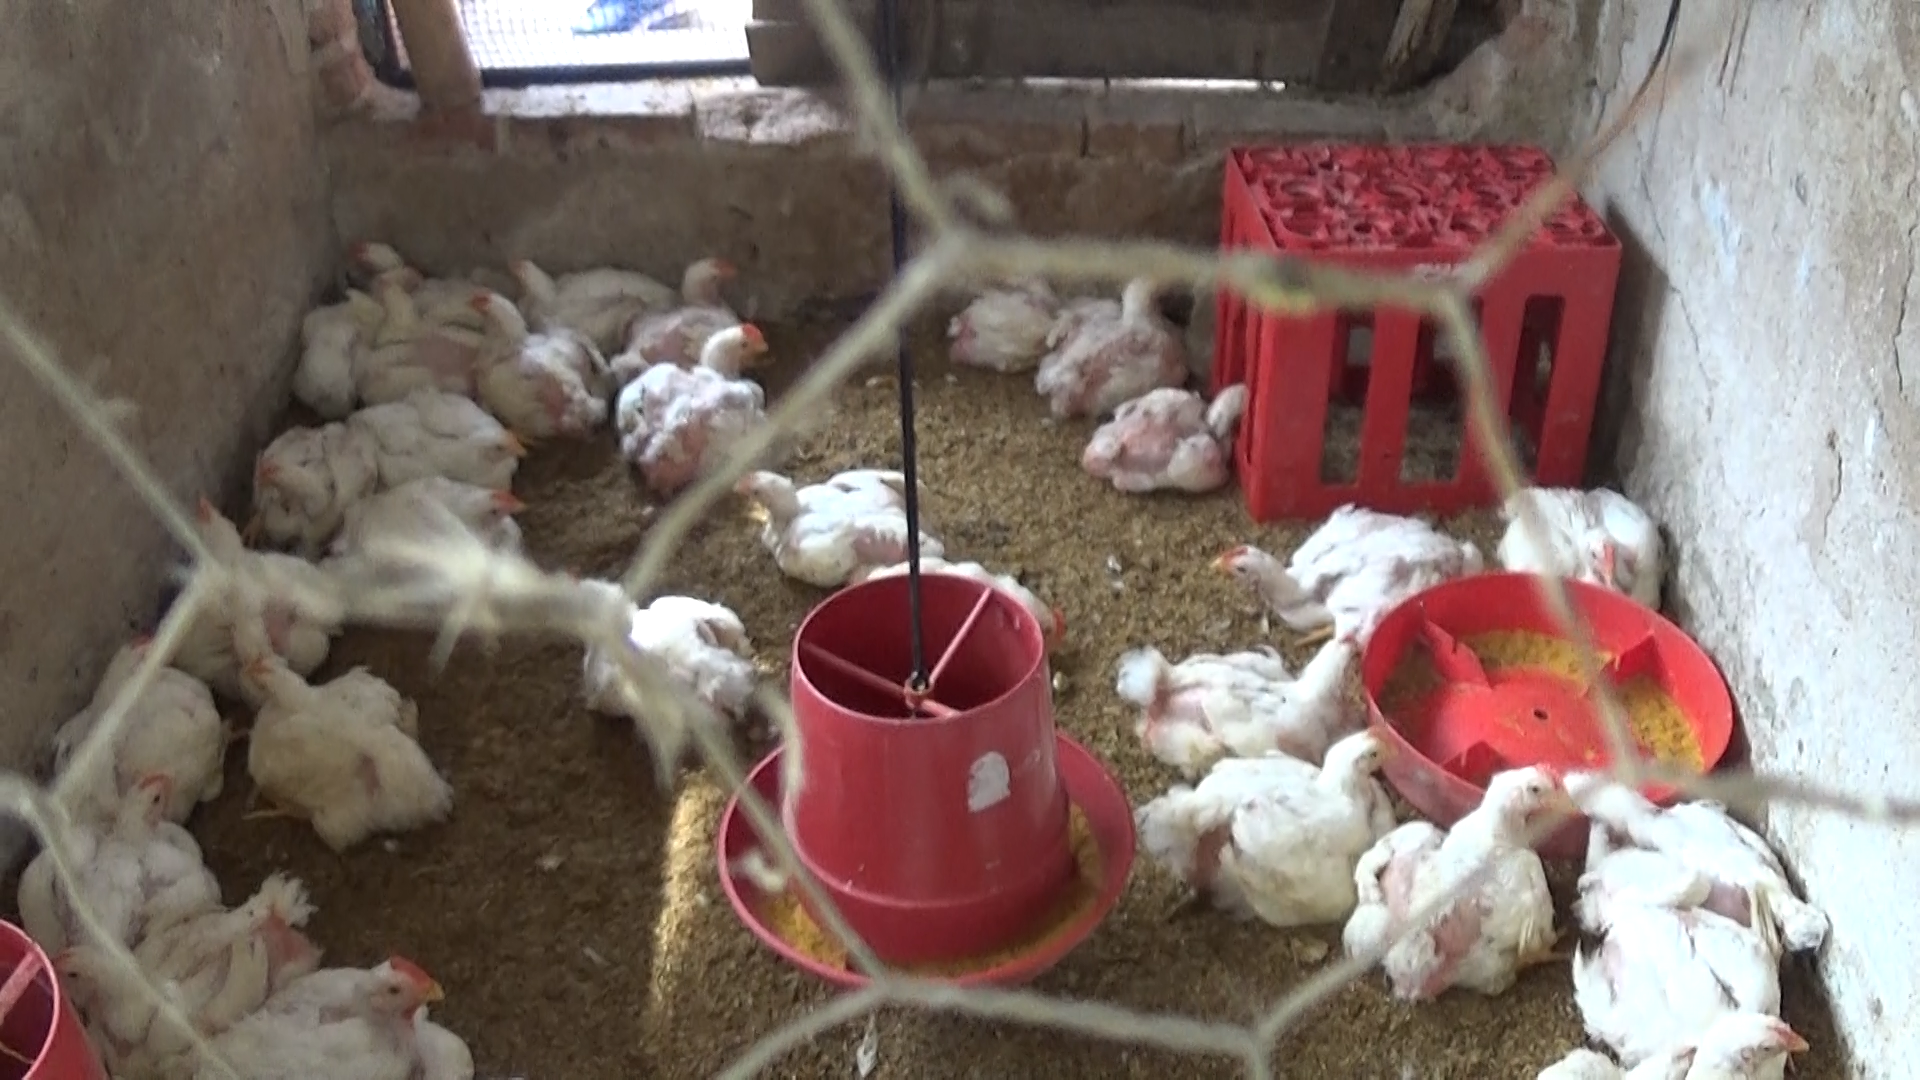Pollos: (211, 644, 483, 822), (1361, 760, 1575, 984), (171, 945, 477, 1080), (1178, 727, 1391, 918), (1581, 893, 1803, 1072), (1563, 753, 1816, 909), (596, 295, 775, 508), (1114, 628, 1386, 757), (53, 907, 293, 1048), (160, 483, 342, 661), (1197, 502, 1462, 622), (716, 444, 942, 583), (61, 636, 240, 808), (22, 781, 195, 924), (1046, 237, 1187, 413), (1077, 382, 1262, 516), (456, 268, 607, 419), (343, 380, 538, 496), (1499, 473, 1665, 603), (596, 247, 752, 378), (245, 411, 394, 549), (931, 286, 1120, 392), (498, 232, 650, 327), (347, 227, 498, 322), (367, 266, 501, 343), (425, 472, 542, 556)
